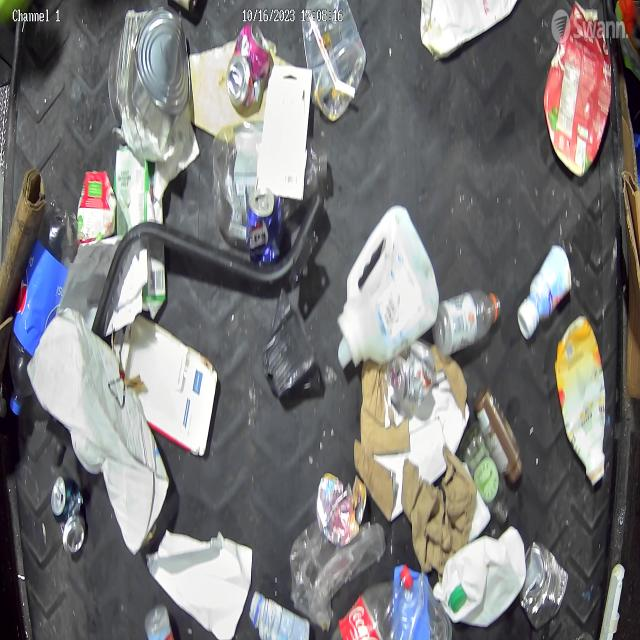can: (108, 8, 191, 163), (226, 18, 271, 109), (524, 534, 570, 619), (245, 184, 286, 265), (50, 474, 85, 554)
milk_jug: (337, 207, 446, 367), (438, 520, 525, 622)
non_white_jug: (538, 7, 609, 176)
plastic_bottle: (432, 286, 502, 358)
